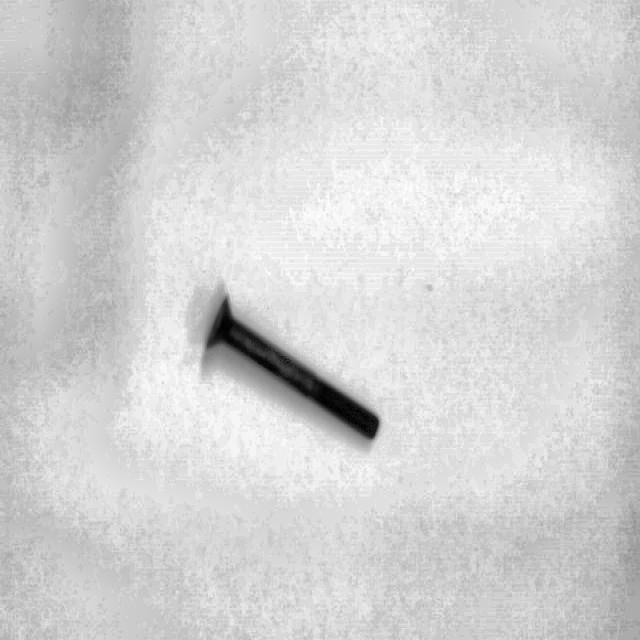Flat head socket screw: (202, 291, 382, 444)
